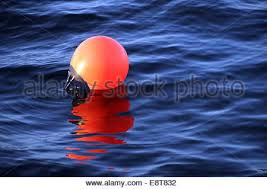buoy: (70, 36, 130, 92)
